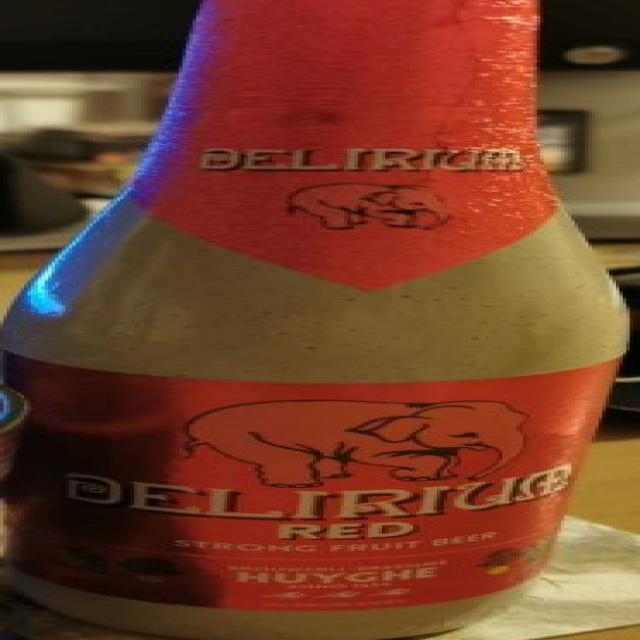Delirium Red: (0, 1, 640, 640)
